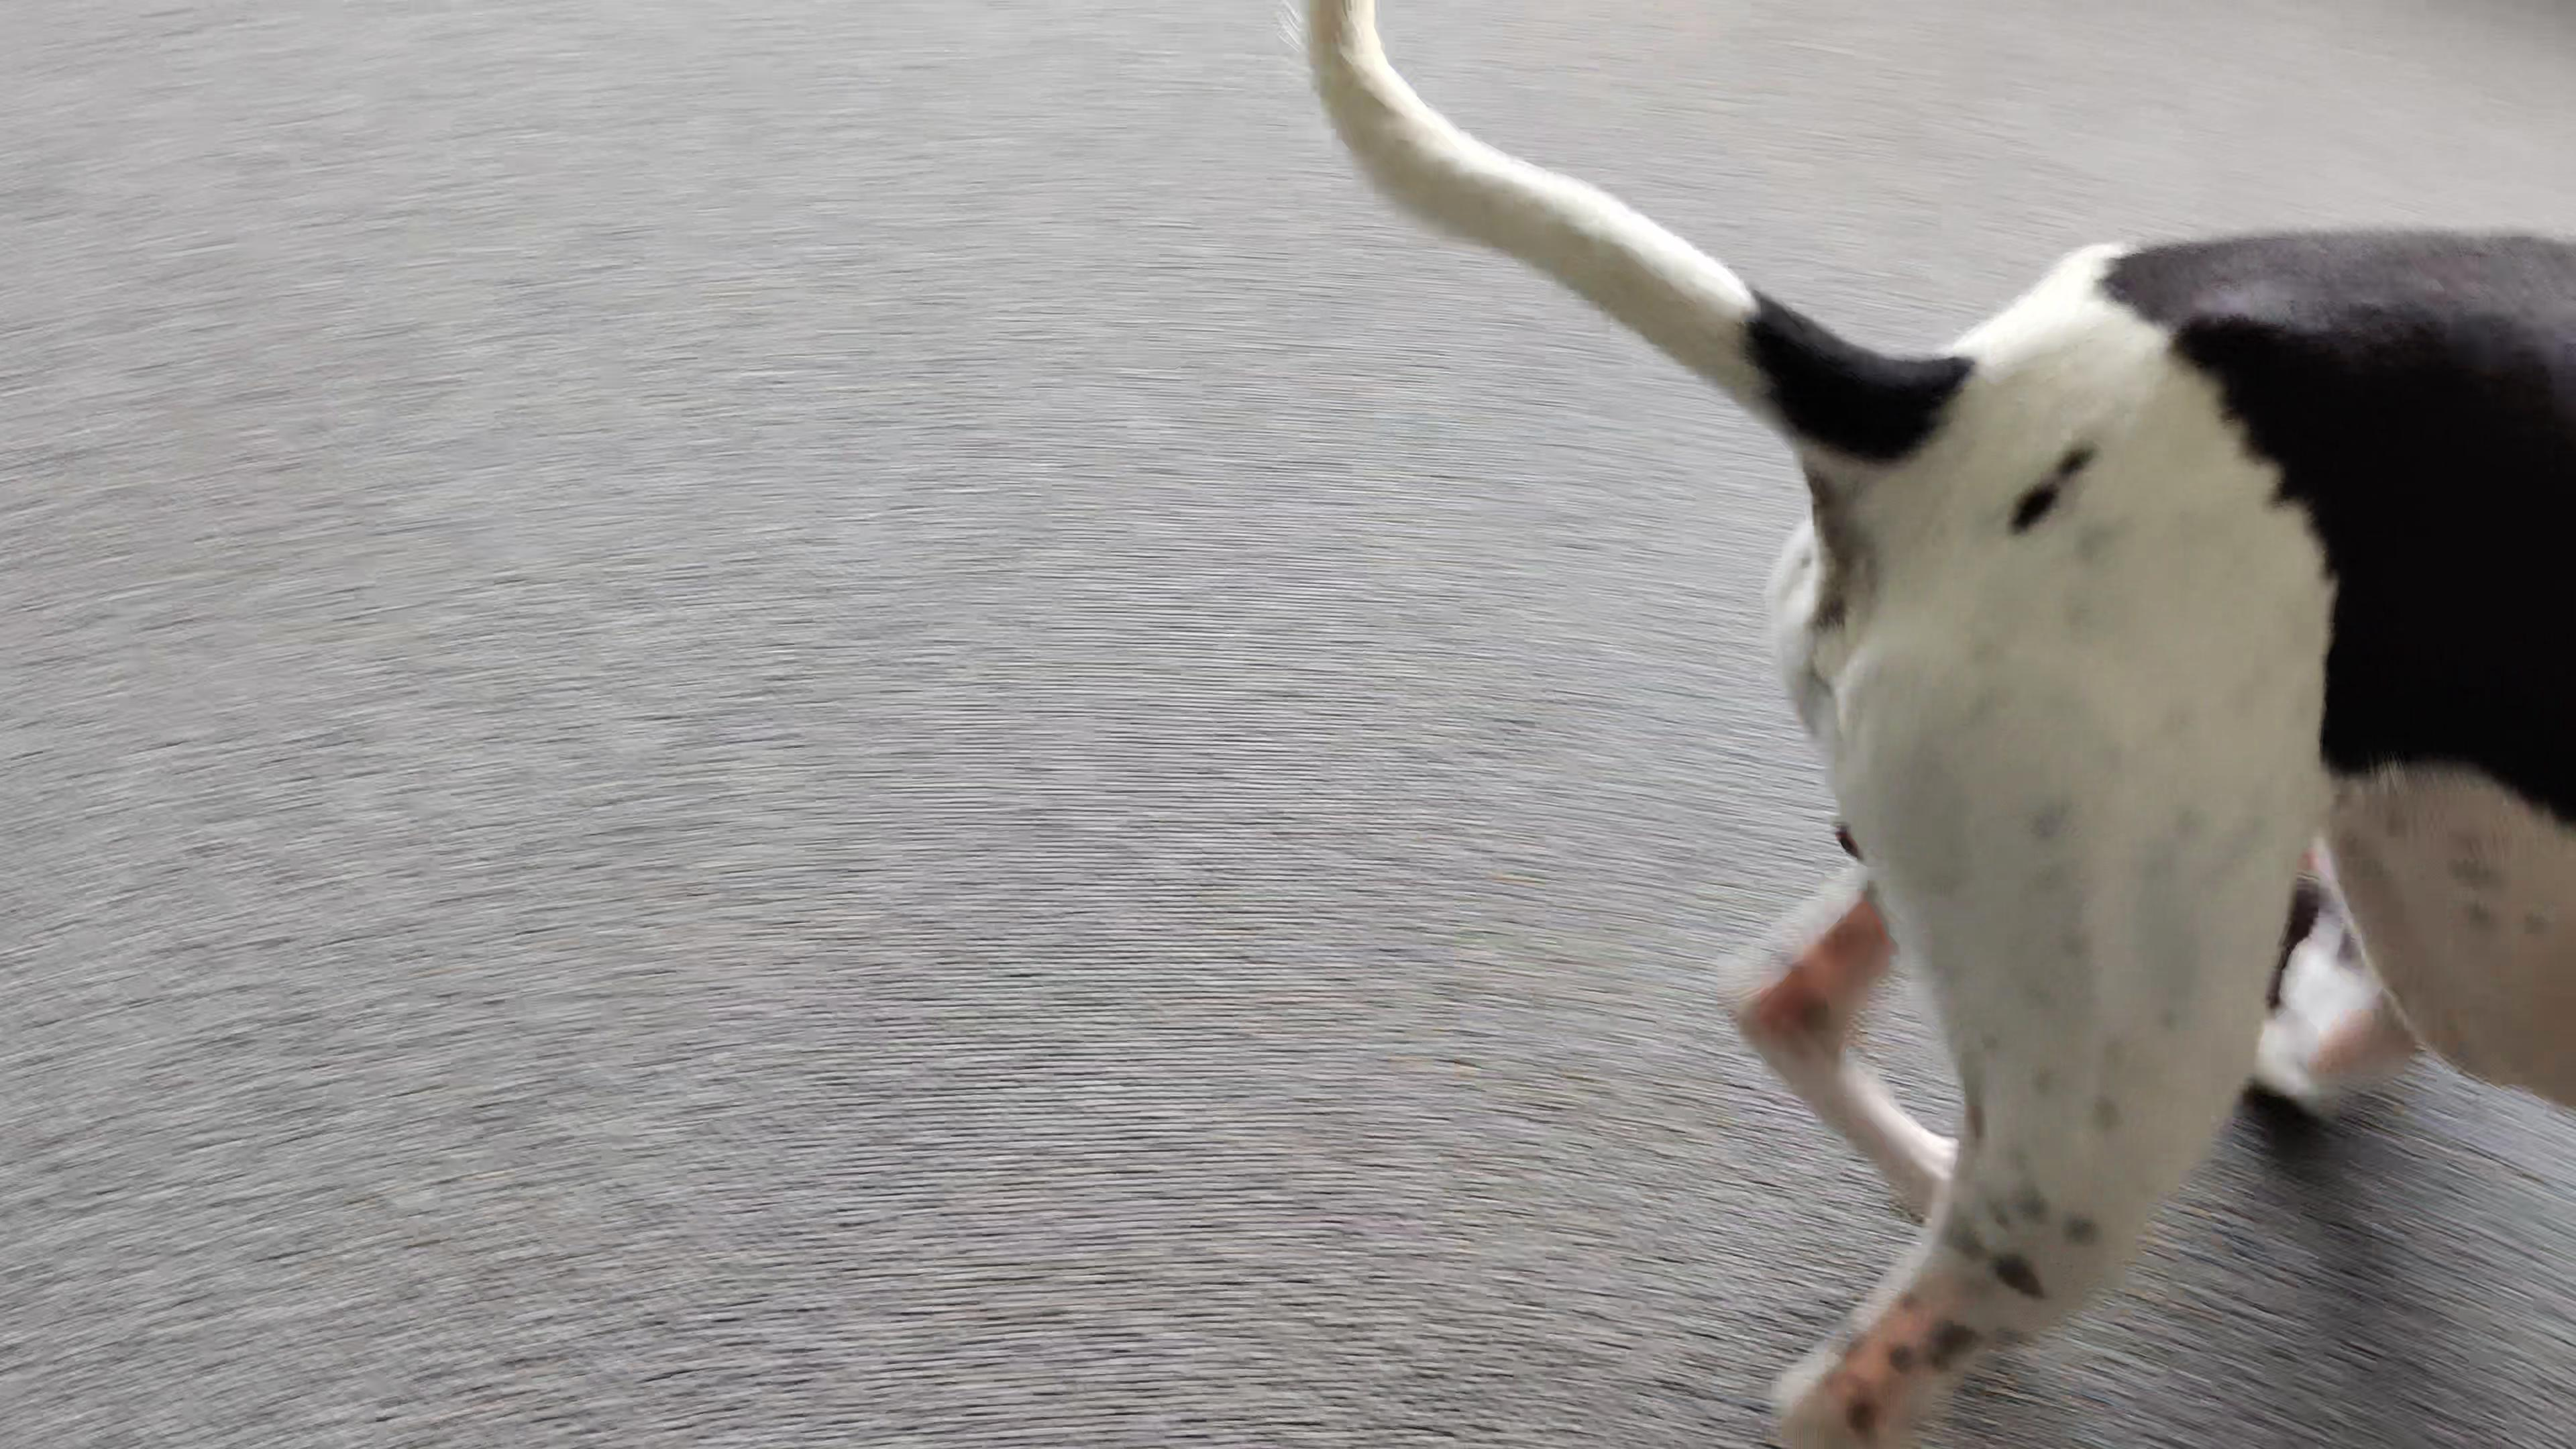Dog: (1297, 0, 2576, 1449)
